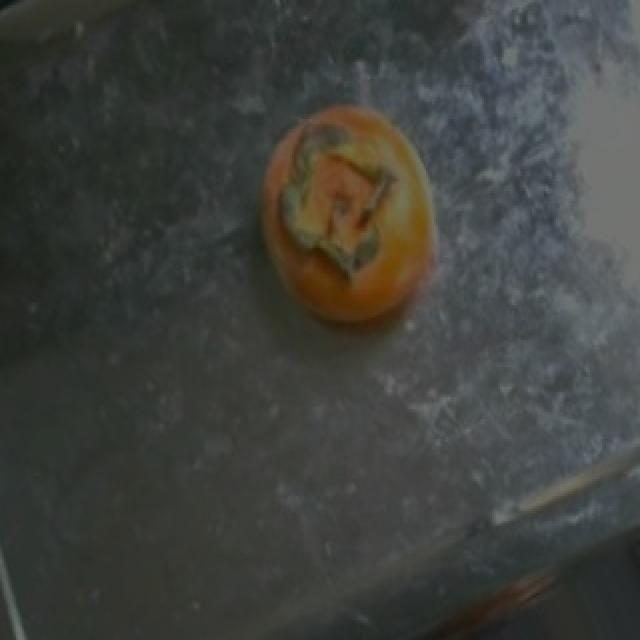Fruit: (232, 87, 462, 352)
